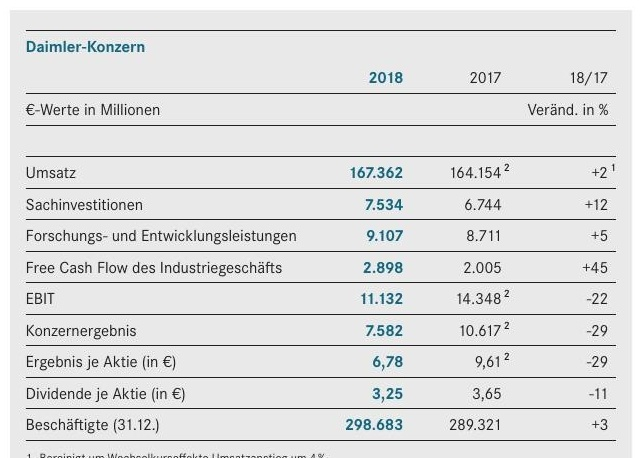table: (0, 0, 641, 458)
